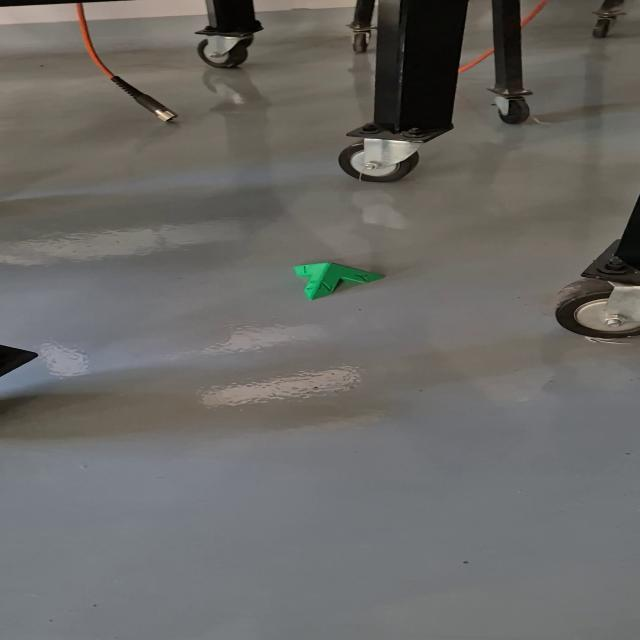objects: (292, 260, 388, 302)
